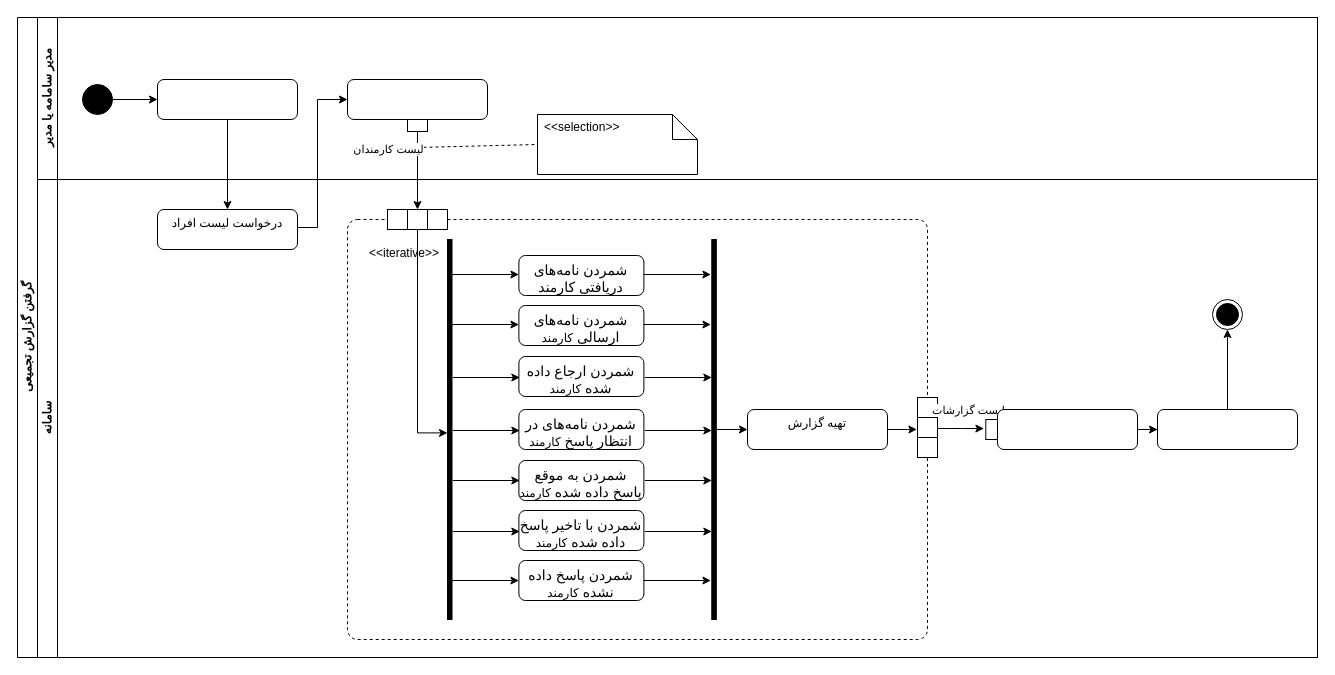
Some shapes in this 1335 by 675 pixel diagram are drawn without their labels. The centre of each missing label's shape, as x and y in pixels:
تهیه گزارش کلی از همه گزارشات: [1067,429]
درخواست گزارش گیری تجمیعی: [227,99]
فقط کارمندانی که در زیر درخت مدیر درخواست کننده هستند: [617,144]
نمایش گزارشات: [1227,429]
وارد کردن لیست کارمندان: [417,99]
